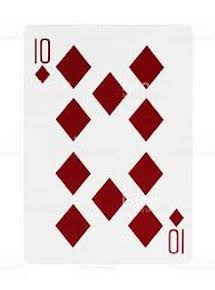TenOfDiamonds: (23, 19, 199, 267)
